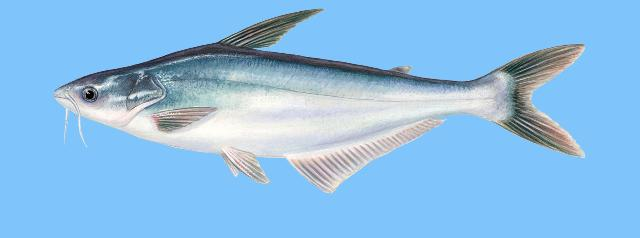Mulut: (36, 75, 92, 123)
Sirip Anal: (283, 112, 453, 200)
Sirip Dada: (143, 95, 227, 143)
Sirip Ekor: (473, 34, 607, 170)
Sirip Perut: (210, 138, 274, 192)
Sirip Punggung: (213, 3, 421, 89)
